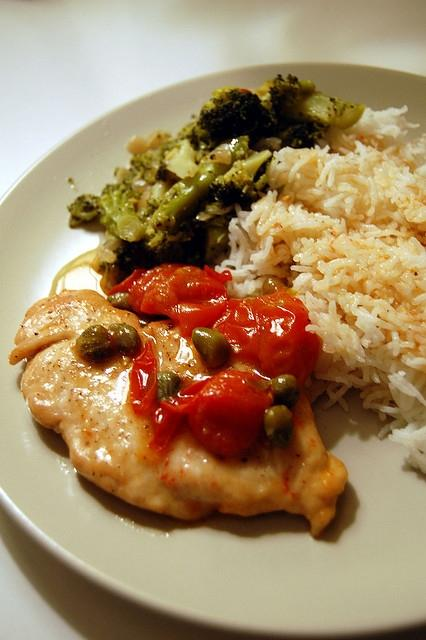broccoli: (144, 162, 232, 252), (114, 223, 208, 283), (67, 180, 150, 242), (194, 86, 272, 142), (208, 150, 272, 208), (278, 91, 366, 130), (154, 136, 202, 188), (273, 115, 330, 148), (204, 219, 230, 266), (124, 152, 158, 185), (250, 136, 282, 158)
